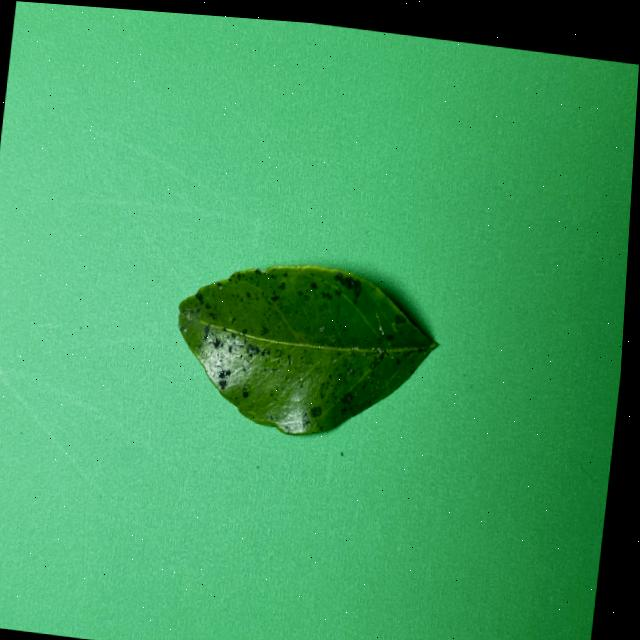sooty_mold: (179, 265, 438, 434)
